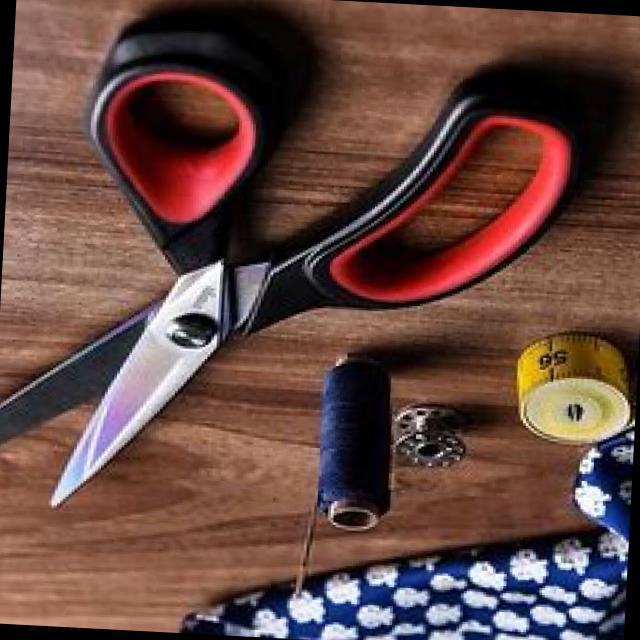scissors: (0, 0, 406, 525)
